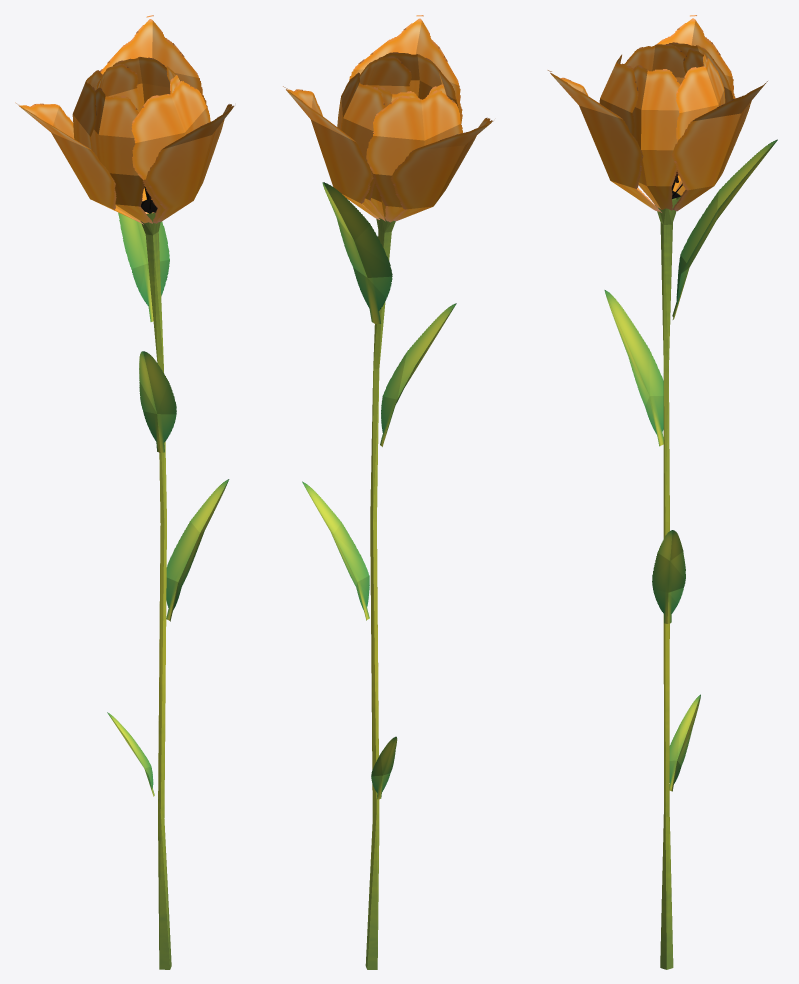
The model's file is VEG0310006.fbx.
The picture shows the model from 3 angles, left to right: view 1: azimuth 30°, elevation 25°; view 2: azimuth 150°, elevation 25°; view 3: azimuth 270°, elevation 25°; orthographic projection.
Visible parts, largest first — view 1: smVEG0310006; view 2: smVEG0310006; view 3: smVEG0310006.
Boxes of the visible parts, left/top/right/bottom form: smVEG0310006: left=15, top=15, right=234, bottom=969; smVEG0310006: left=283, top=15, right=493, bottom=969; smVEG0310006: left=547, top=15, right=777, bottom=969.
Size of the model in its own units: 10.71 by 45.52 by 10.8.
1 material, 1 textured.
